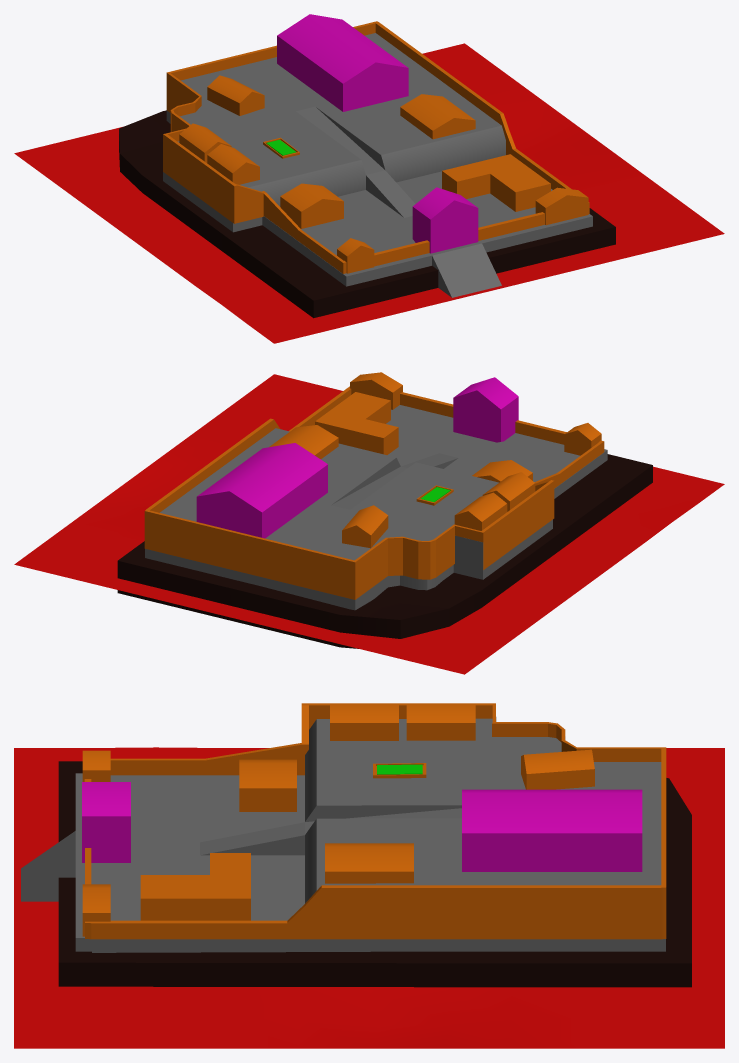
Rendered from blockout1unity.fbx.
3 views of the same model, one above another, from view 1: azimuth 30°, elevation 25°; view 2: azimuth 150°, elevation 25°; view 3: azimuth 270°, elevation 25° (orthographic). The views are drawn at different scales.
Parts seen in each view (by area): view 1: blockout_carre_1; view 2: blockout_carre_1; view 3: blockout_carre_1.
Part boxes in pixels (x1=…): blockout_carre_1: x1=14, y1=14, x2=724, y2=343; blockout_carre_1: x1=14, y1=372, x2=724, y2=674; blockout_carre_1: x1=14, y1=703, x2=724, y2=1048.
Bounding box in the file's own units: 142 × 34.75 × 142.
